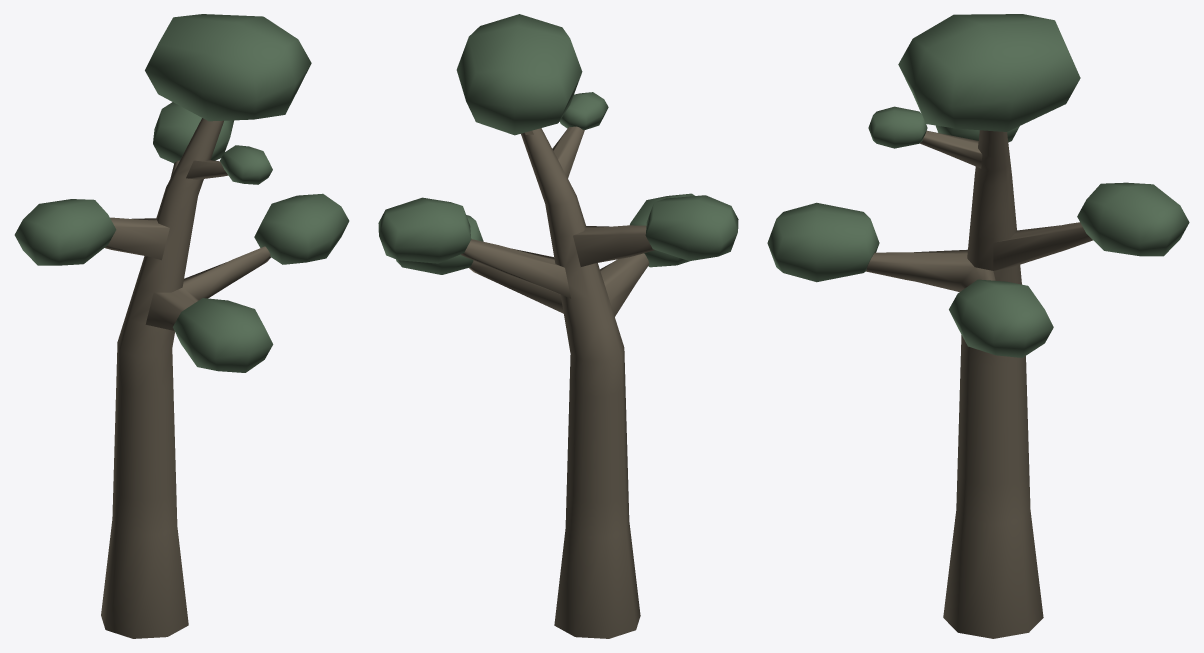
Rendered from OddTree.fbx.
The picture shows the model from 3 angles, left to right: view 1: azimuth 30°, elevation 25°; view 2: azimuth 150°, elevation 25°; view 3: azimuth 270°, elevation 25°; orthographic projection. The views are drawn at different scales.
Parts seen in each view (by area): view 1: pCube8; view 2: pCube8; view 3: pCube8.
Part boxes in pixels (x1,y1,x2,y2): pCube8: (14, 14, 349, 638); pCube8: (378, 14, 738, 638); pCube8: (767, 14, 1189, 638).
Size of the model in its own units: 98.43 by 164 by 97.8.
